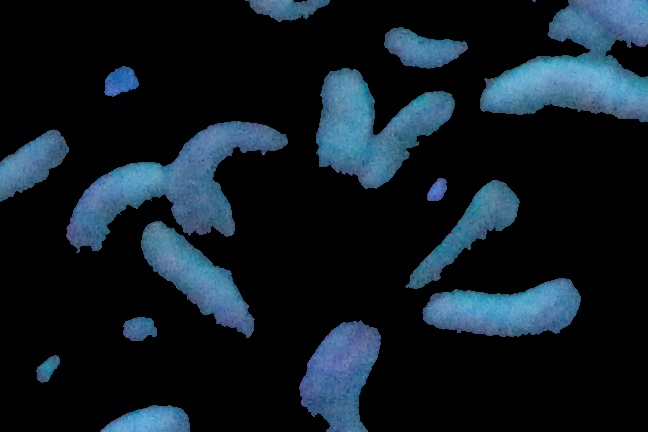larvae: (144, 221, 253, 360), (479, 45, 648, 130), (171, 124, 302, 219), (62, 161, 168, 264), (304, 317, 390, 432), (423, 279, 587, 334), (377, 84, 459, 190), (317, 65, 376, 181), (377, 10, 487, 70), (1, 128, 72, 215)
